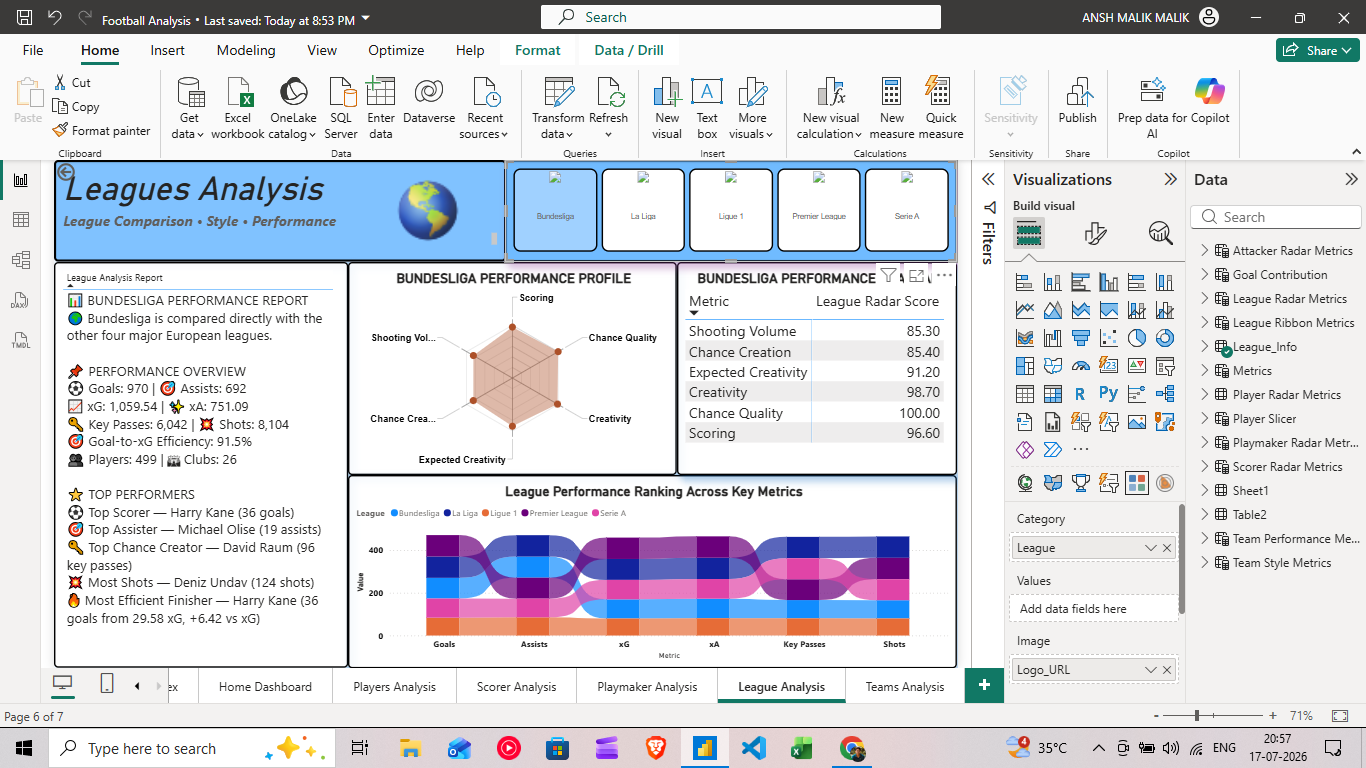

This screenshot's page, from the dashboard's own definition file:
{"tool":"powerbi","page":{"name":"League Analysis","canvas":[1280,720],"ordinal":5},"visuals":[{"type":"textbox","title":"Leagues Analysis","box":[0,0,641.4,144.3],"z":0},{"type":"image","box":[472.9,14.3,112.9,115.7],"z":1000},{"type":"ChicletSlicer1448559807354","fields":{"Category":["League_Info.League"],"Image":["League_Info.Logo_URL"]},"box":[638.6,0,641.4,144.3],"z":2000},{"type":"tableEx","fields":{"Values":["Table2.League Insights"]},"box":[0,144.6,416.7,575.4],"z":3000},{"type":"RadarChart1446119667547","fields":{"Category":["League Radar Metrics.Metric"],"Y":["Table2.League Radar Score"]},"box":[416.7,144.6,466.3,301.9],"z":4000},{"type":"actionButton","box":[0,0,80.8,34],"z":5000},{"type":"ribbonChart","title":"League Performance Ranking Across Key Metrics","fields":{"Category":["League Ribbon Metrics.Metric"],"Series":["Table2.League"],"Y":["Table2.League Ribbon Value"]},"box":[416.7,446.5,863.1,273.5],"z":6000},{"type":"pivotTable","fields":{"Rows":["League Radar Metrics.Metric"],"Values":["Table2.League Radar Score"]},"box":[883,144.6,396.9,301.9],"z":7000}]}

Visuals, with their boxes on the page's 1280x720 design canvas (x1, y1, x2, y2). These are canvas units, not pixel positions in the 1366x768 screenshot, which may show the page scaled, cropped or inside an application window:
"Leagues Analysis" textbox: region(0, 0, 641, 144)
image: region(473, 14, 586, 130)
ChicletSlicer1448559807354 - League_Info.League x League_Info.Logo_URL: region(639, 0, 1280, 144)
tableEx - Table2.League Insights: region(0, 145, 417, 720)
RadarChart1446119667547 - League Radar Metrics.Metric x Table2.League Radar Score: region(417, 145, 883, 446)
actionButton: region(0, 0, 81, 34)
"League Performance Ranking Across Key Metrics" ribbonChart: region(417, 446, 1280, 720)
pivotTable - League Radar Metrics.Metric x Table2.League Radar Score: region(883, 145, 1280, 446)
